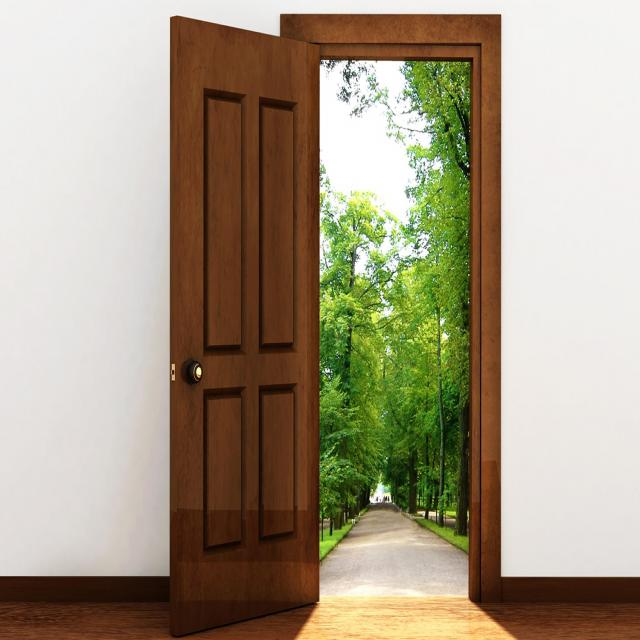open: (184, 24, 493, 592)
